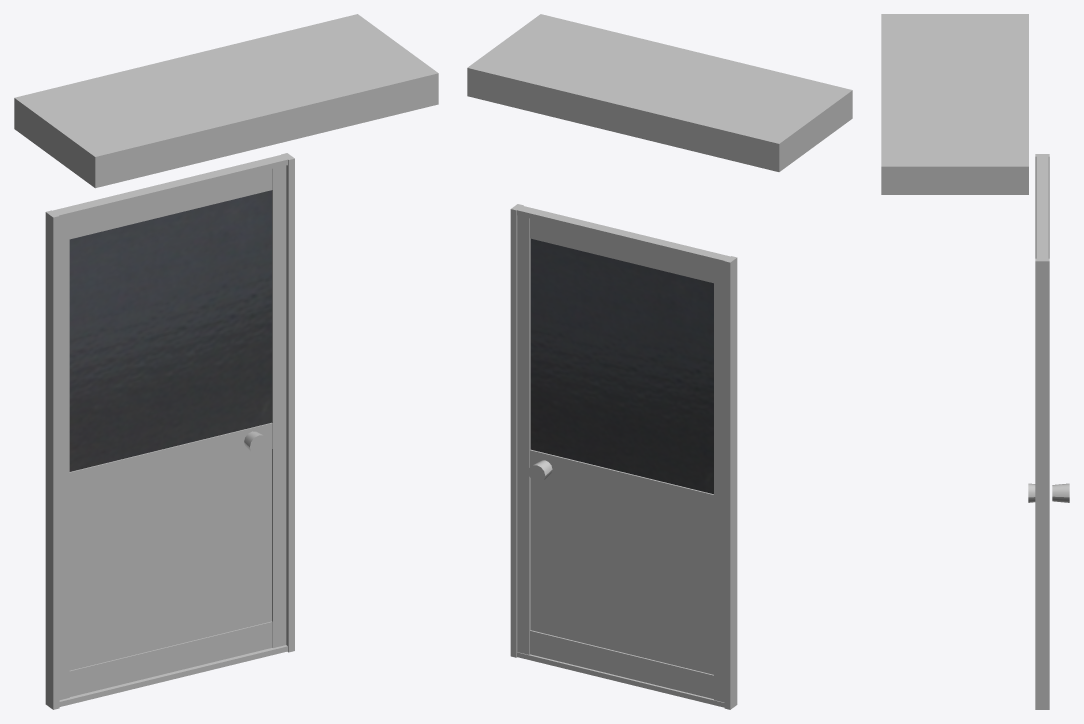
File: MobBil_door01a.fbx
The picture shows the model from 3 angles, left to right: view 1: azimuth 30°, elevation 25°; view 2: azimuth 150°, elevation 25°; view 3: azimuth 270°, elevation 25°; orthographic projection. The views are drawn at different scales.
Visible parts, largest first — view 1: MobBil_door01a; view 2: MobBil_door01a; view 3: MobBil_door01a.
Part boxes in pixels (left/top/right/bottom): MobBil_door01a: left=14, top=14, right=438, bottom=709; MobBil_door01a: left=467, top=14, right=852, bottom=709; MobBil_door01a: left=881, top=14, right=1069, bottom=709.
Size of the model in its own units: 1.66 by 2.89 by 0.8655.
